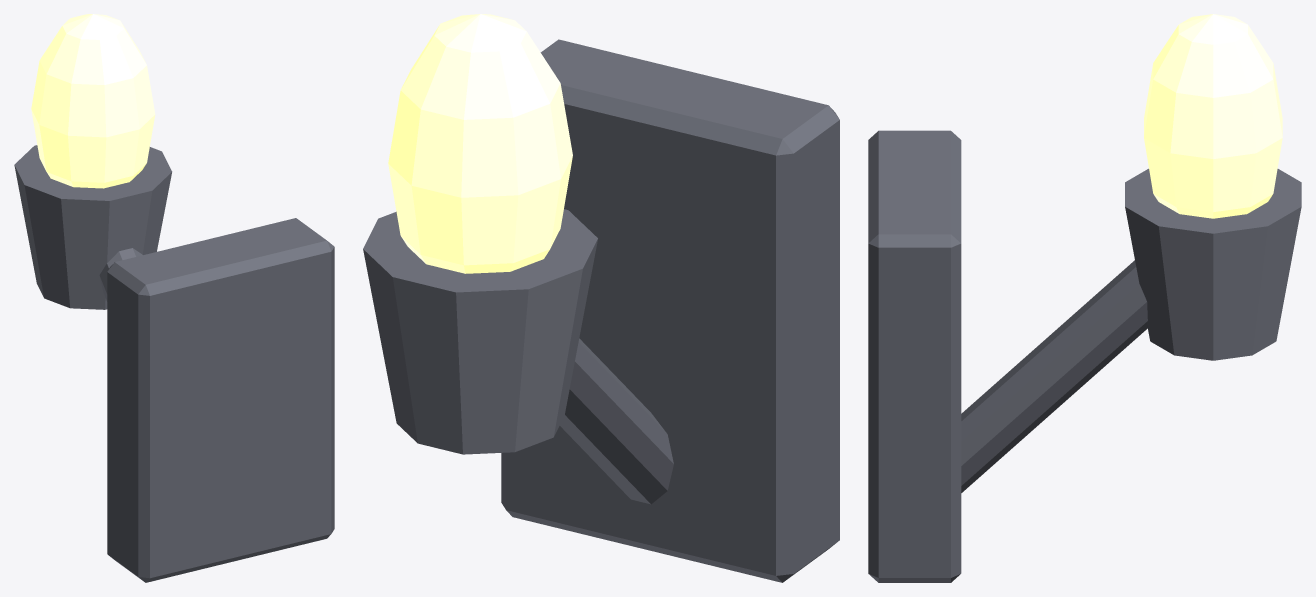
File: crypt_wall_torch.glb
The picture shows the model from 3 angles, left to right: view 1: azimuth 30°, elevation 25°; view 2: azimuth 150°, elevation 25°; view 3: azimuth 270°, elevation 25°; orthographic projection. The views are drawn at different scales.
Bounding box in the file's own units: 0.4 × 0.86 × 0.6531.
